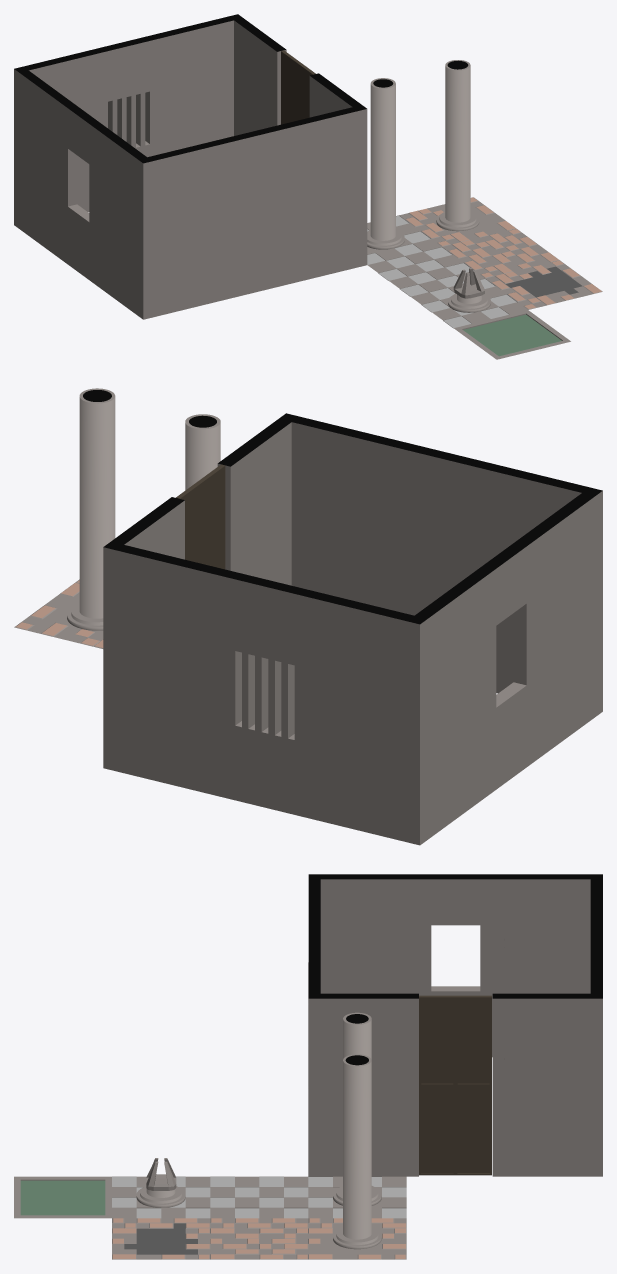
File: environment.fbx
3 views of the same model, one above another, from view 1: azimuth 30°, elevation 25°; view 2: azimuth 150°, elevation 25°; view 3: azimuth 270°, elevation 25° (orthographic). The views are drawn at different scales.
Parts seen in each view (by area): view 1: Plane.014, Plane.007, Plane.011, Plane.008, Plane.013, Plane.009, Plane.012, Cylinder, Cylinder.001, Plane.001, Plane.006, Plane (+7 smaller); view 2: Plane.013, Plane.008, Plane.009, Plane.007, Plane.014, Plane.011, Plane.012, Cylinder, Cube, Plane.002, Cylinder.001, Plane.010; view 3: Plane.008, Plane.007, Cube, Plane.014, Plane.013, Plane.012, Cylinder, Plane.010, Plane.003, Plane.006, Plane, Plane.001 (+7 smaller).
Boxes of the visible parts, x1,y1,x2,y2 form: Plane.014: (100,129,217,319); Plane.007: (287,77,367,283); Plane.011: (213,123,292,301); Plane.008: (164,14,280,151); Plane.013: (14,50,93,256); Plane.009: (89,32,168,157); Plane.012: (57,98,108,287); Cylinder: (436,60,479,231); Cylinder.001: (367,78,404,249); Plane.001: (485,260,602,309); Plane.006: (454,310,570,359); Plane: (442,228,559,278); Plane.013: (314,576,480,845); Plane.008: (103,502,215,793); Plane.009: (209,567,321,819); Plane.007: (225,413,391,607); Plane.014: (489,465,602,755); Plane.011: (384,439,496,615); Plane.012: (468,532,541,800); Cylinder: (67,388,115,630); Cube: (176,464,225,569); Plane.002: (14,583,103,648); Cylinder.001: (185,414,220,490); Plane.010: (164,458,238,572); Plane.008: (504,957,602,1176); Plane.007: (308,957,406,1176); Cube: (419,995,491,1175); Plane.014: (308,874,406,1004); Plane.013: (504,874,602,993); Plane.012: (406,874,504,1057); Cylinder: (333,1054,381,1249); Plane.010: (406,993,504,1176); Plane.003: (210,1176,308,1218); Plane.006: (14,1176,111,1218); Plane: (210,1218,308,1259); Plane.001: (112,1218,210,1259).
Bounding box in the file's own units: 2000 × 815 × 2400.
